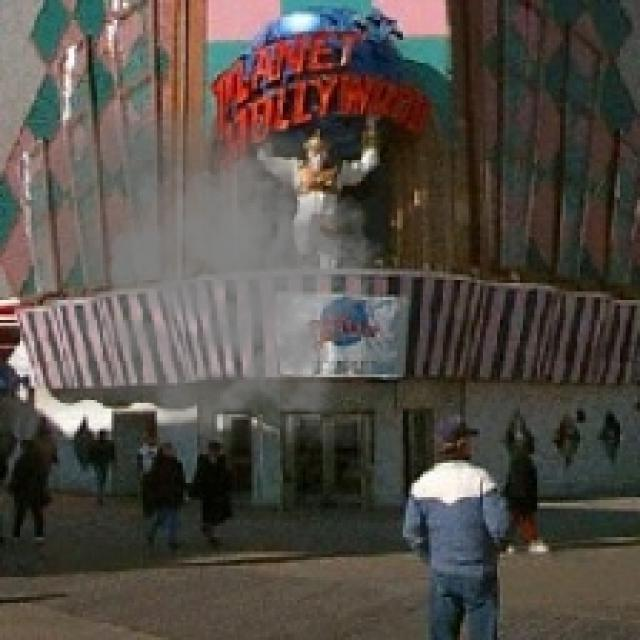Smoke: (8, 100, 386, 449)
